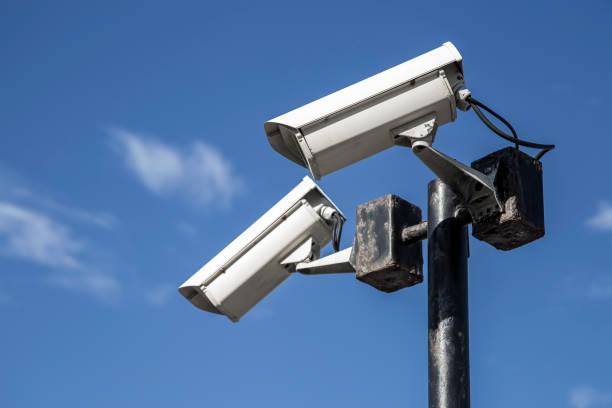camera: (247, 35, 499, 187), (156, 168, 375, 341)
